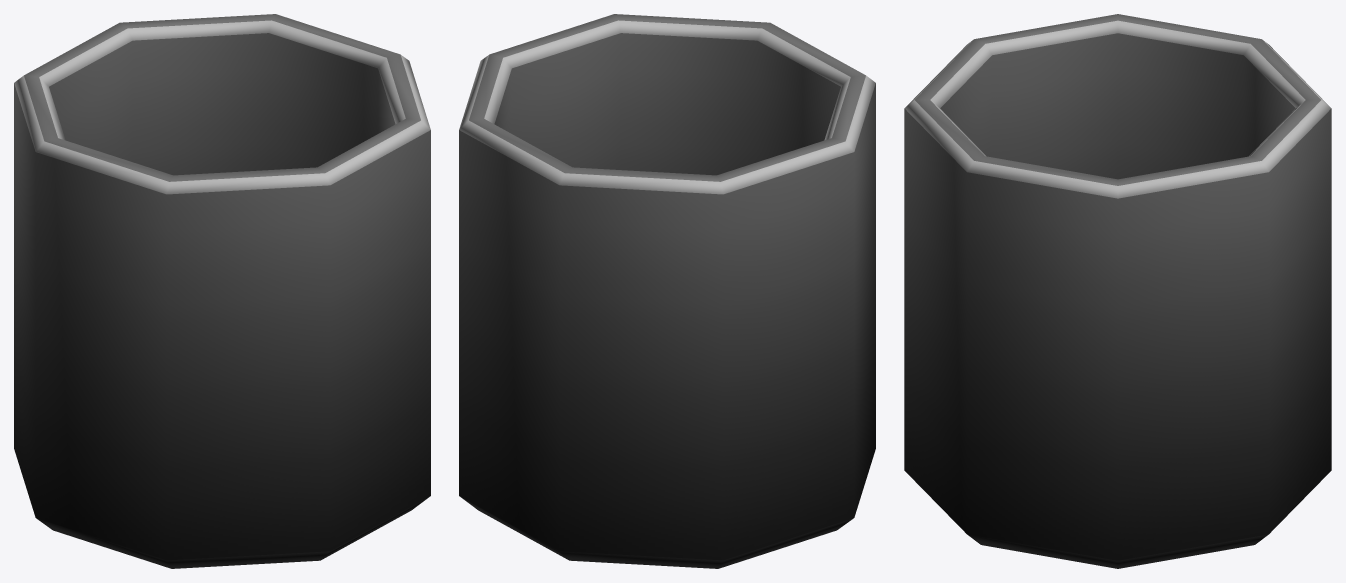
Rendered from holder_001.glb.
3 views of the same model, side by side, from view 1: azimuth 30°, elevation 25°; view 2: azimuth 150°, elevation 25°; view 3: azimuth 270°, elevation 25° (orthographic).
Parts seen in each view (by area): view 1: holder.001; view 2: holder.001; view 3: holder.001.
Boxes of the visible parts, x1,y1,x2,y2 form: holder.001: [14, 14, 430, 568]; holder.001: [459, 14, 875, 568]; holder.001: [904, 14, 1331, 568].
Bounding box in the file's own units: 0.1749 × 0.1749 × 0.1749.
Materials: 1 (1 with a texture image).
